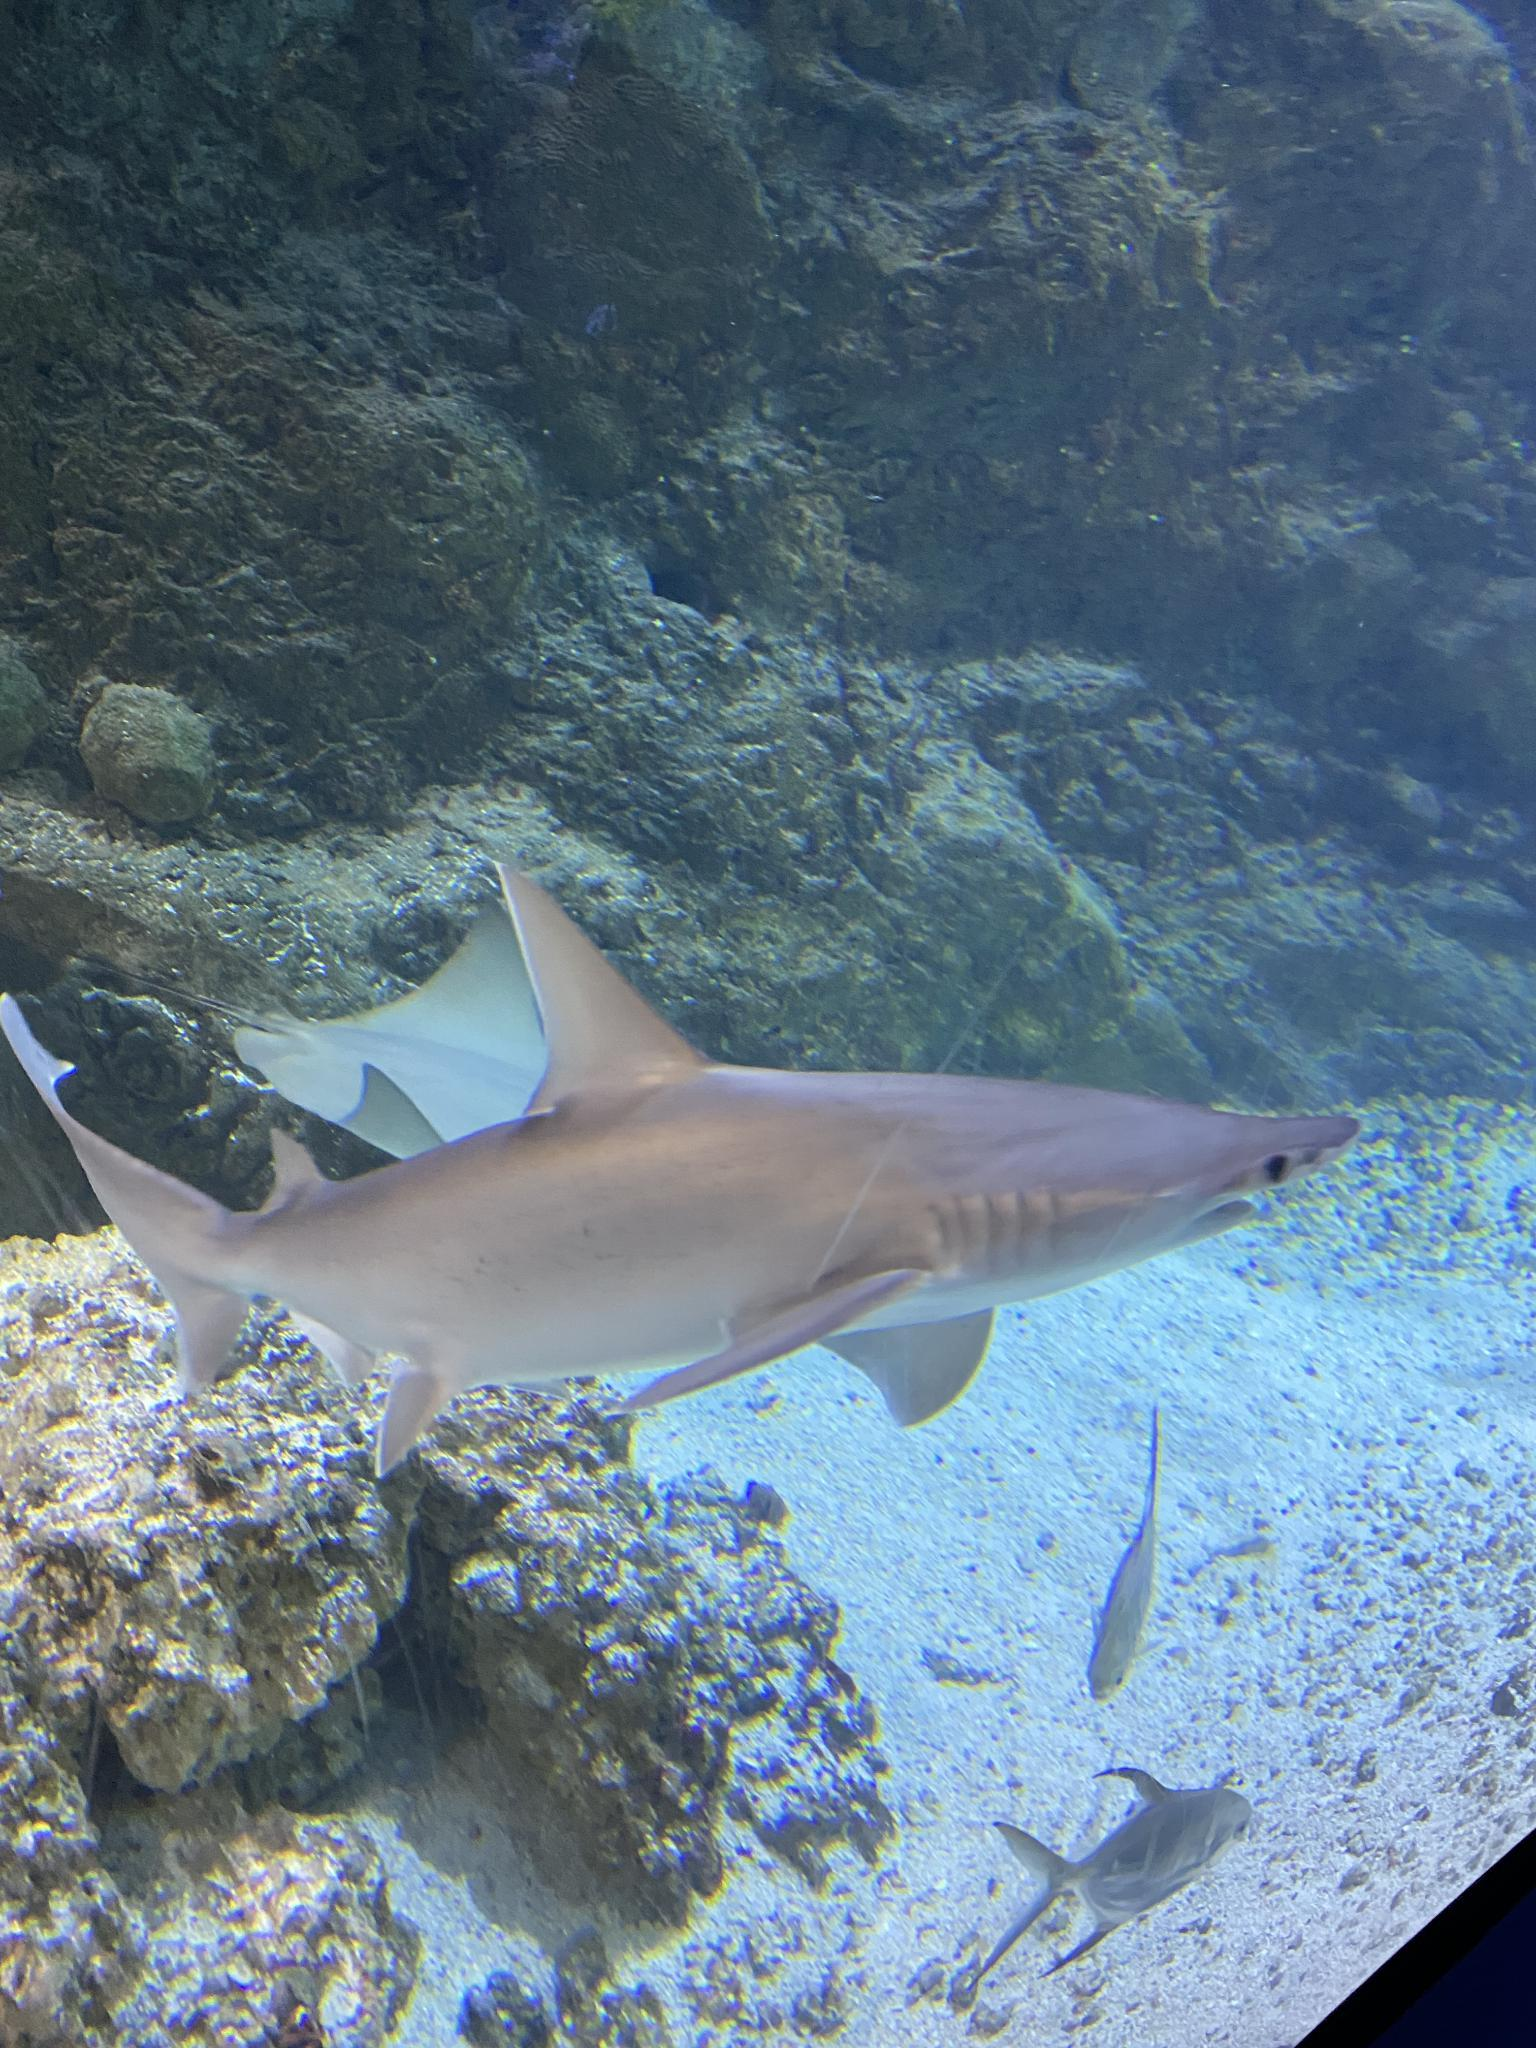fish: (973, 1766, 1252, 1975), (1087, 1409, 1163, 1705)
shark: (2, 843, 1371, 1485)
